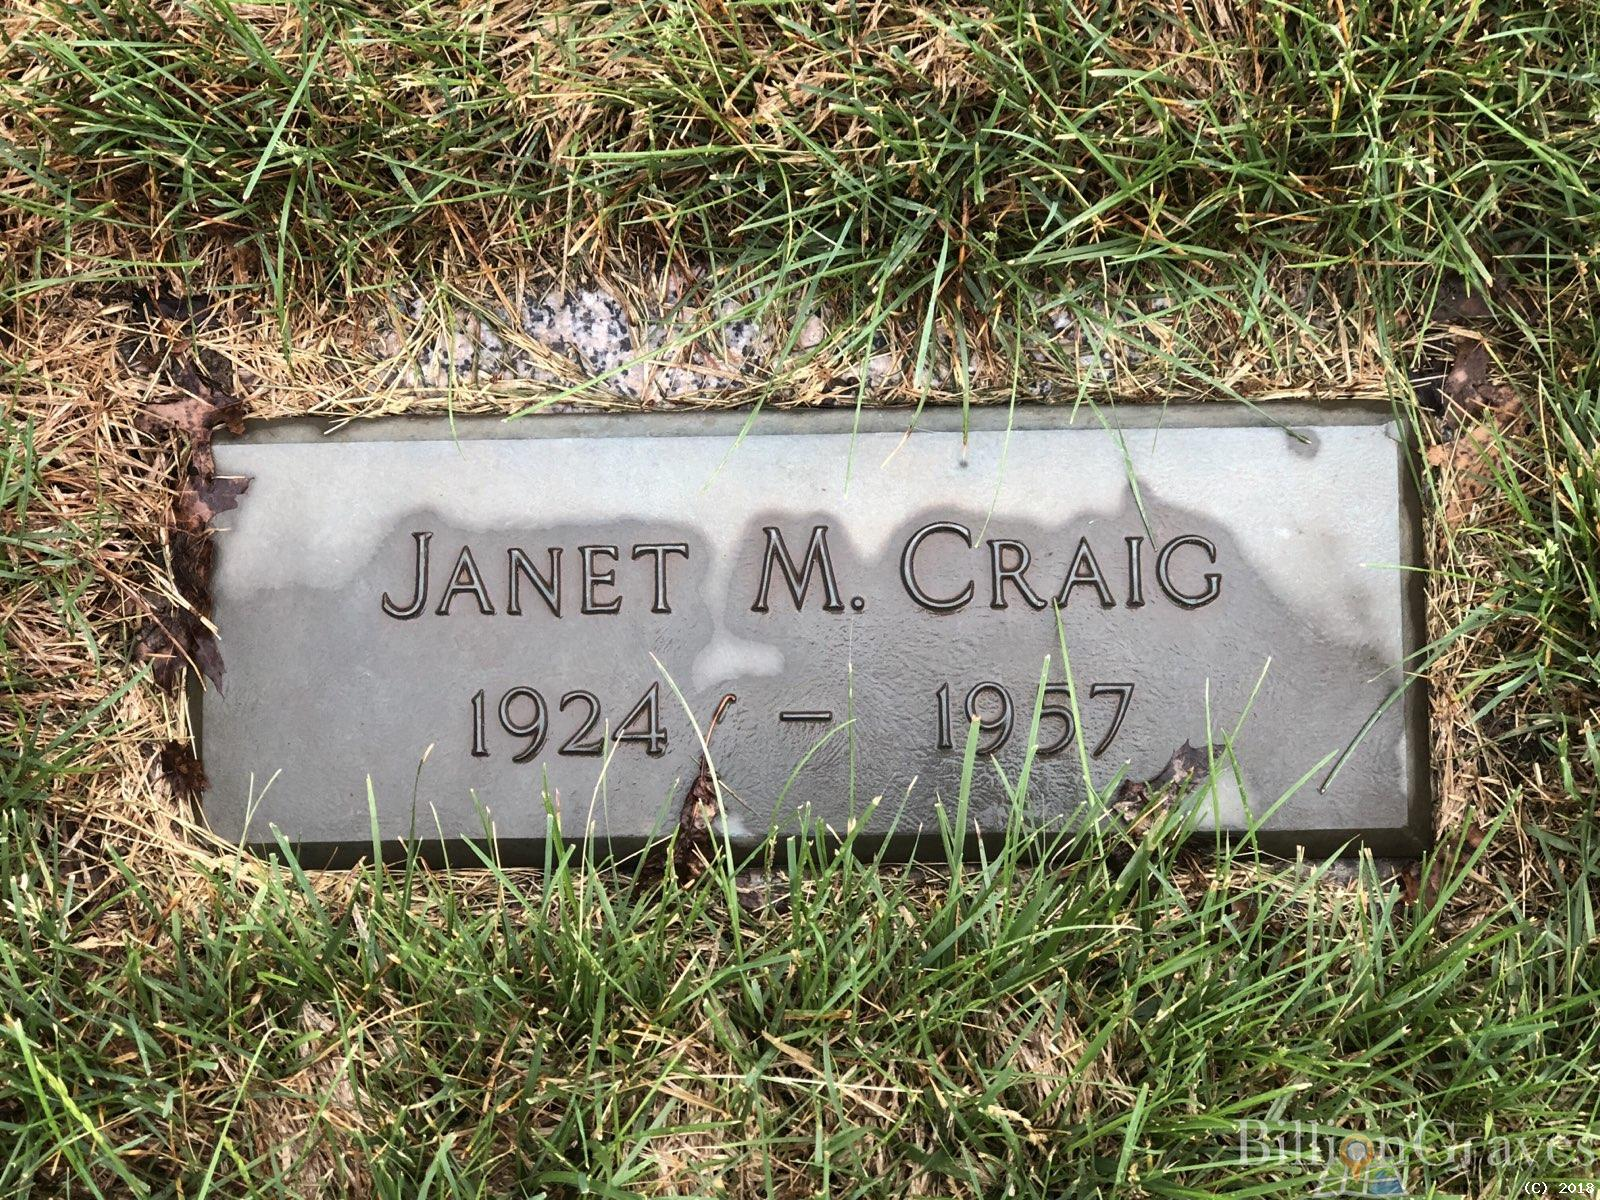flat: (149, 337, 1493, 955)
